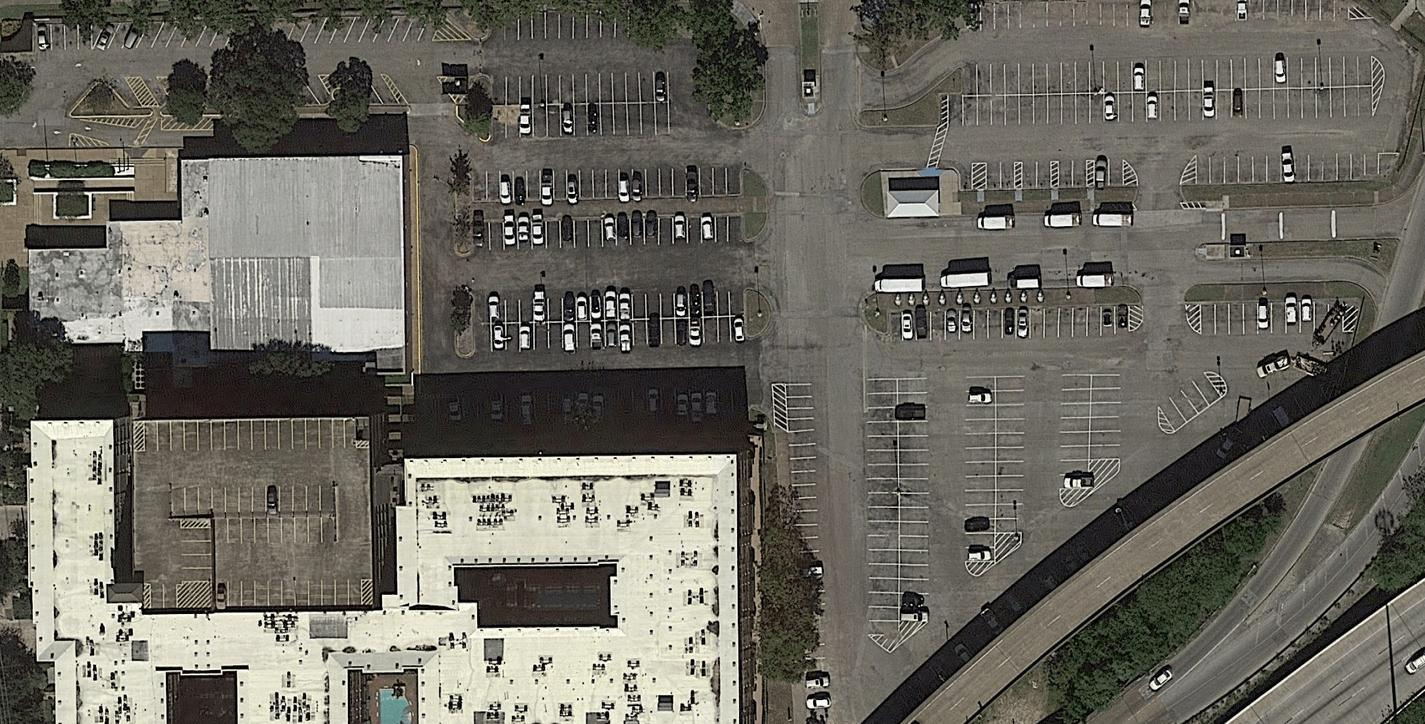parkingspot: (961, 53, 1374, 98), (947, 85, 1375, 128), (418, 384, 751, 431), (91, 13, 446, 51), (965, 0, 1350, 34), (785, 383, 829, 675), (473, 314, 749, 354), (469, 215, 745, 253), (471, 287, 747, 325), (469, 165, 744, 203), (888, 303, 1131, 344), (865, 377, 900, 637), (896, 377, 931, 623), (143, 417, 359, 455), (489, 101, 671, 140), (489, 70, 670, 107), (1195, 151, 1381, 187), (963, 375, 997, 563), (169, 484, 337, 519), (1199, 299, 1345, 337), (994, 374, 1027, 534), (213, 577, 363, 609), (487, 9, 631, 42), (1156, 369, 1223, 433), (1058, 373, 1093, 491), (212, 517, 337, 544), (1088, 373, 1123, 462), (179, 527, 214, 583), (32, 22, 93, 54), (347, 72, 401, 105), (804, 671, 833, 723), (296, 72, 333, 106), (139, 75, 177, 107), (1093, 157, 1125, 189), (1021, 159, 1053, 190), (1057, 158, 1088, 190), (985, 160, 1016, 191), (149, 582, 179, 610), (957, 161, 974, 191)
